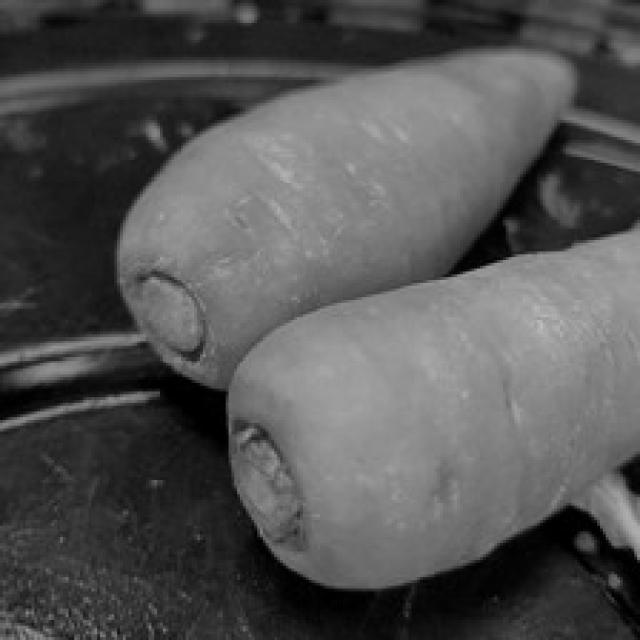Fresh_Carrot: (102, 55, 584, 378), (221, 212, 640, 567)
